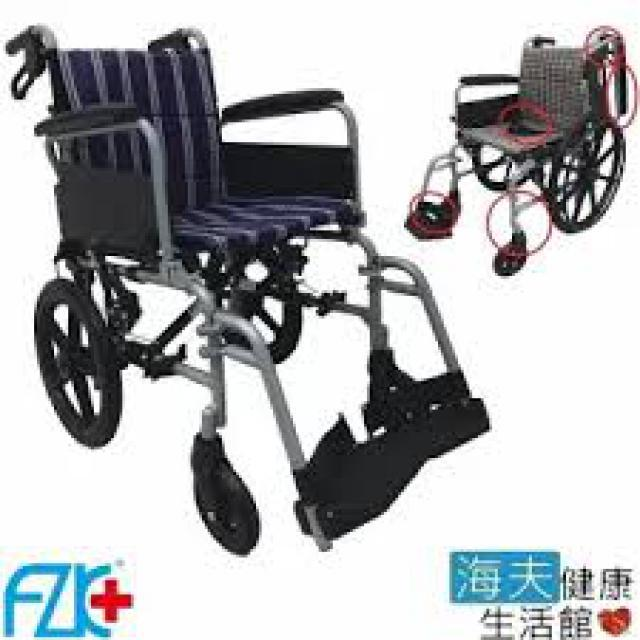wheelchair: (0, 22, 495, 560), (392, 17, 632, 287)
